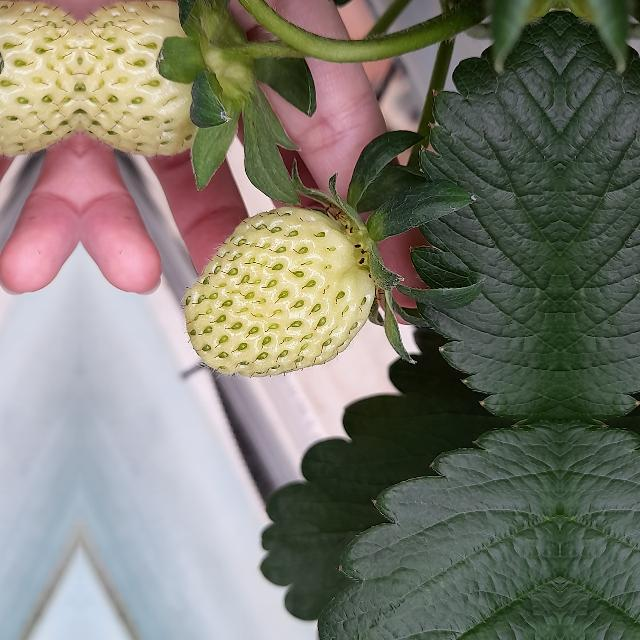Health_25: (183, 206, 374, 377), (80, 0, 232, 156), (0, 0, 80, 156)
